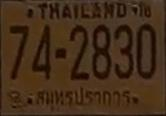0: (136, 23, 156, 78)
2: (69, 25, 88, 80)
3: (114, 24, 133, 78)
4: (30, 24, 50, 79)
7: (9, 25, 28, 78)
8: (91, 24, 110, 79)
SPK: (32, 86, 133, 107)
